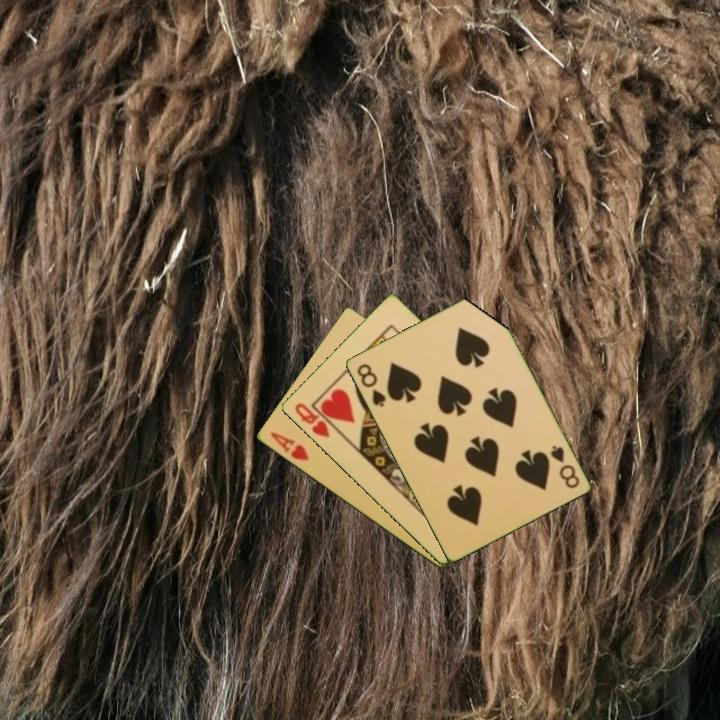8s: (546, 441, 582, 491), (353, 360, 388, 410)
Ah: (266, 428, 312, 464)
Qh: (291, 400, 340, 441)
